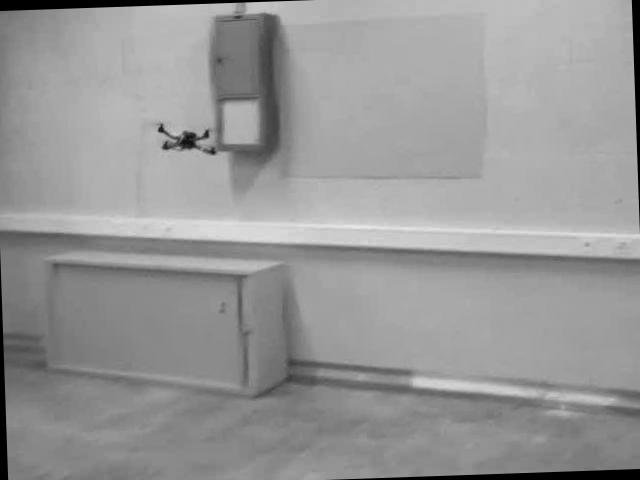drone: (149, 118, 219, 162)
